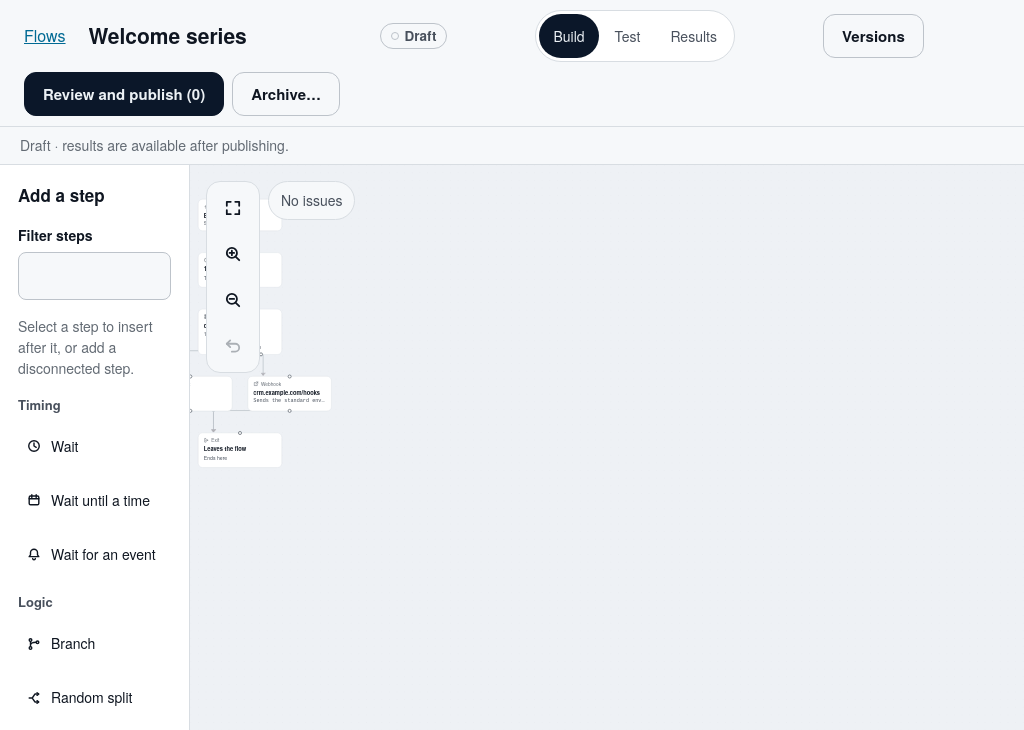
Test: publish dialog › shows a loading state while the dry run is on its way
This screenshot has width=1024, height=730.
Click the button "Review and publish (0)" at (124, 94), box [24, 72, 224, 116]
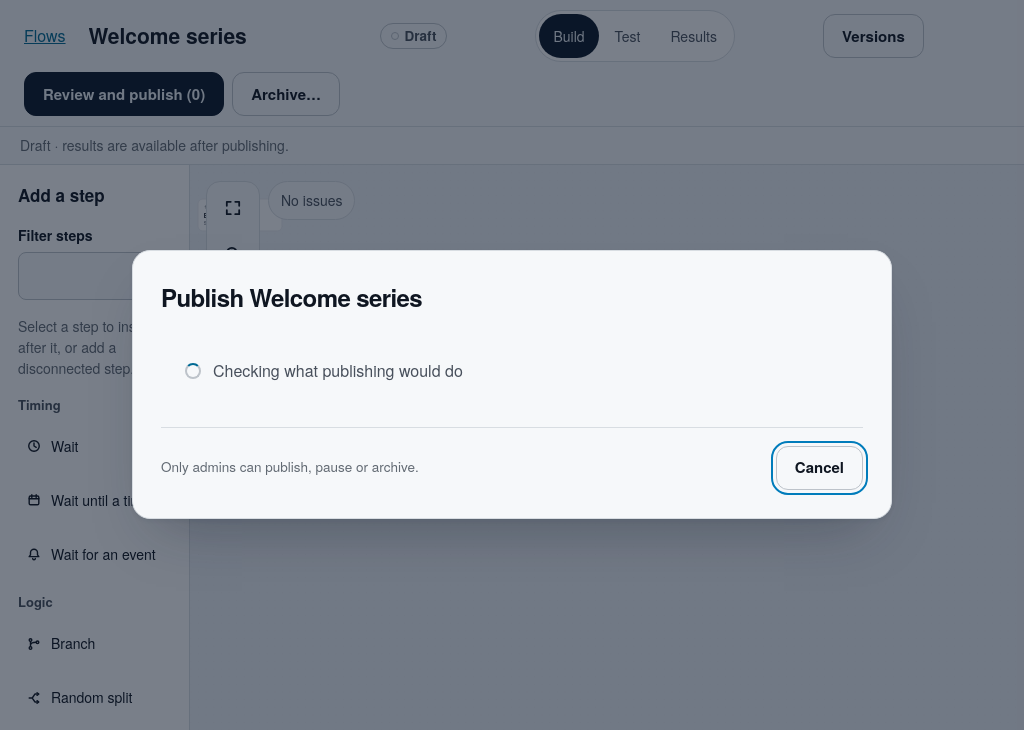
Now the text "Checking what publishing would do" is shown, box [213, 358, 463, 382]
